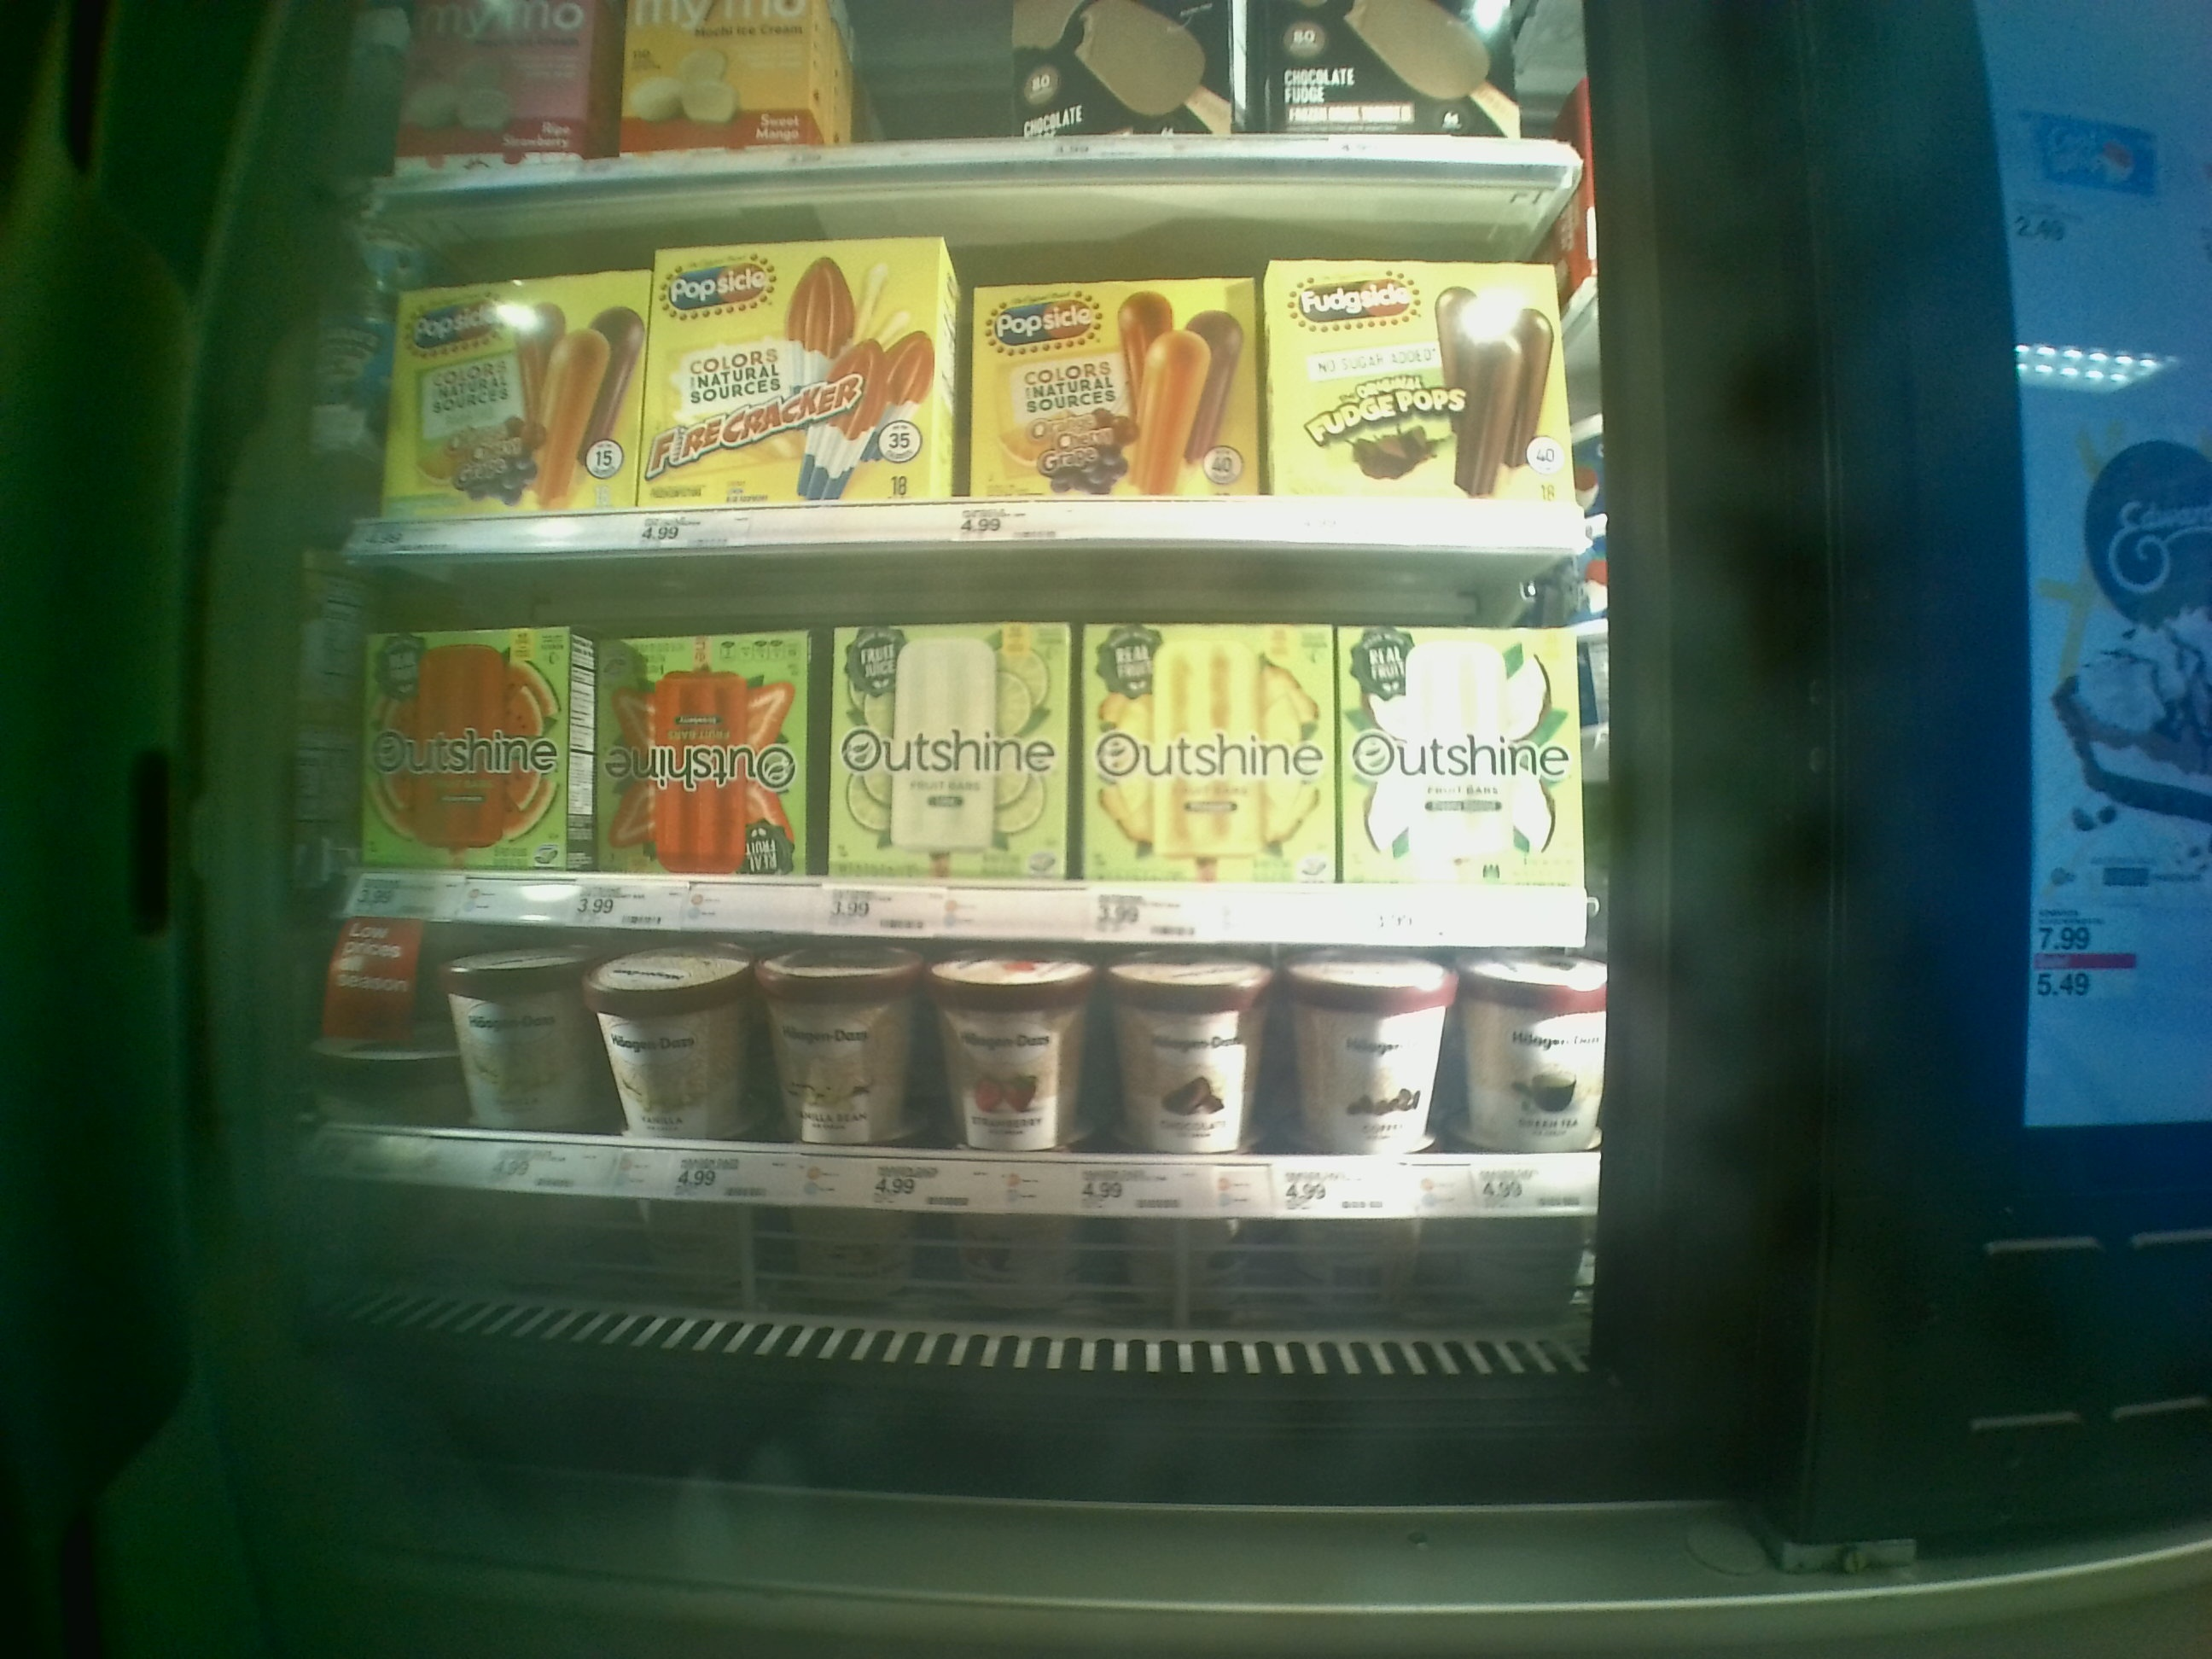ice-cream-shelf: (341, 556, 1604, 927), (388, 209, 1590, 556), (340, 929, 1604, 1220)
